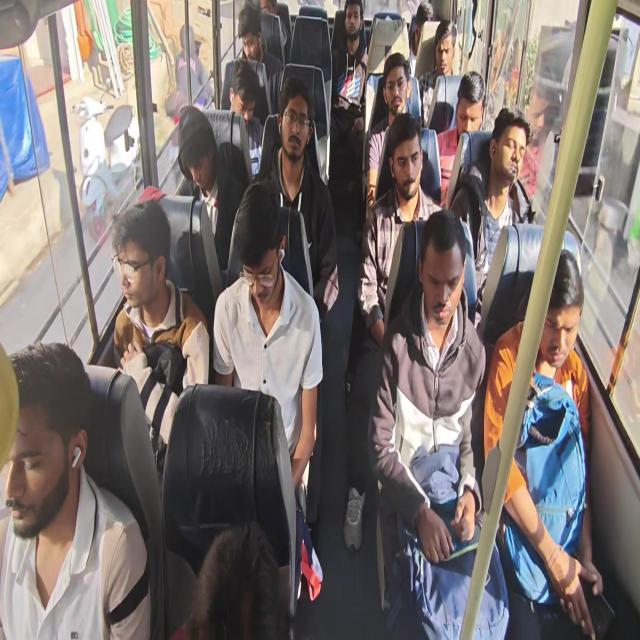person: (3, 1, 608, 638), (367, 208, 510, 638), (482, 246, 602, 638), (343, 112, 446, 552), (0, 340, 152, 638), (212, 179, 324, 504), (105, 197, 210, 469), (251, 76, 339, 319), (358, 112, 445, 343), (449, 106, 536, 326), (171, 519, 291, 639), (177, 104, 243, 274), (221, 4, 284, 126), (366, 52, 412, 214), (435, 70, 486, 205), (330, 1, 368, 140), (228, 59, 264, 178), (419, 19, 458, 126), (174, 23, 214, 108), (408, 0, 434, 76)
